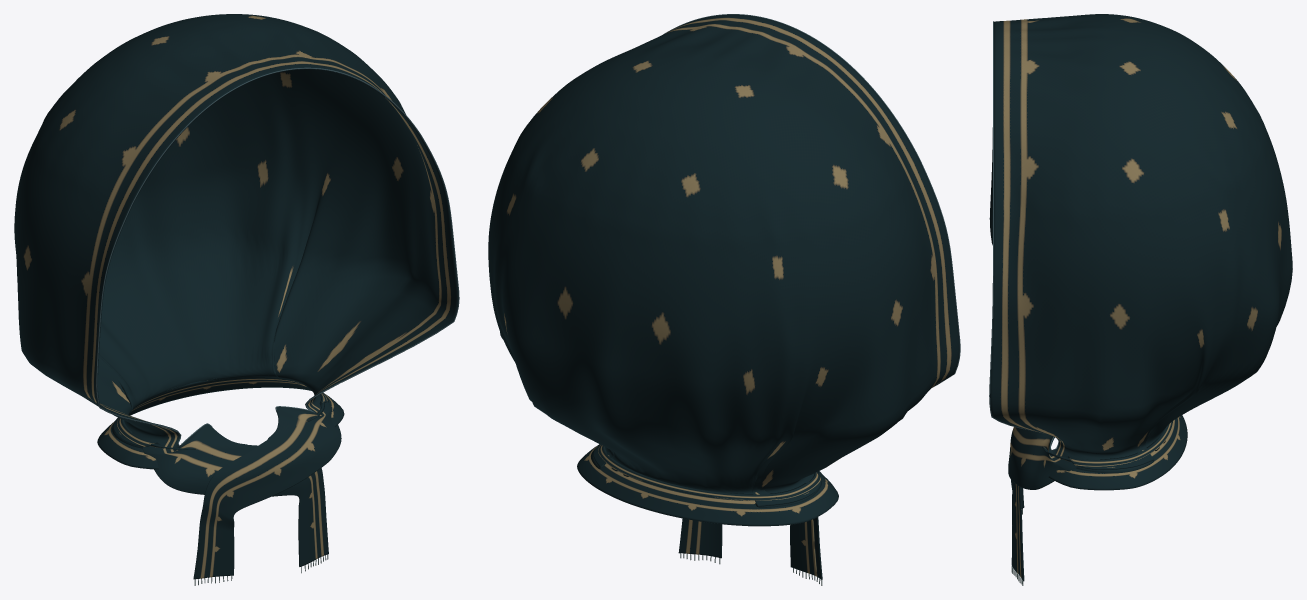
Rendered from Masculine-tshirt-pashmina238-headgear.glb.
The picture shows the model from 3 angles, left to right: view 1: azimuth 30°, elevation 25°; view 2: azimuth 150°, elevation 25°; view 3: azimuth 270°, elevation 25°; orthographic projection. The views are drawn at different scales.
Visible parts, largest first — view 1: 226 headgear / Headwear / continuous woven pashmina238, 226 headgear / Headwear / face edge238; view 2: 226 headgear / Headwear / continuous woven pashmina238, 226 headgear / Headwear / face edge238; view 3: 226 headgear / Headwear / continuous woven pashmina238, 226 headgear / Headwear / face edge238.
Boxes of the visible parts, bbox=[...] form: 226 headgear / Headwear / continuous woven pashmina238: bbox=[14, 14, 458, 579]; 226 headgear / Headwear / face edge238: bbox=[96, 67, 459, 446]; 226 headgear / Headwear / continuous woven pashmina238: bbox=[488, 14, 959, 579]; 226 headgear / Headwear / face edge238: bbox=[663, 14, 960, 387]; 226 headgear / Headwear / continuous woven pashmina238: bbox=[990, 14, 1292, 581]; 226 headgear / Headwear / face edge238: bbox=[989, 21, 1059, 450].
Bounding box in the file's own units: 1.03 × 1.35 × 0.7127.
3 materials, 1 textured.
